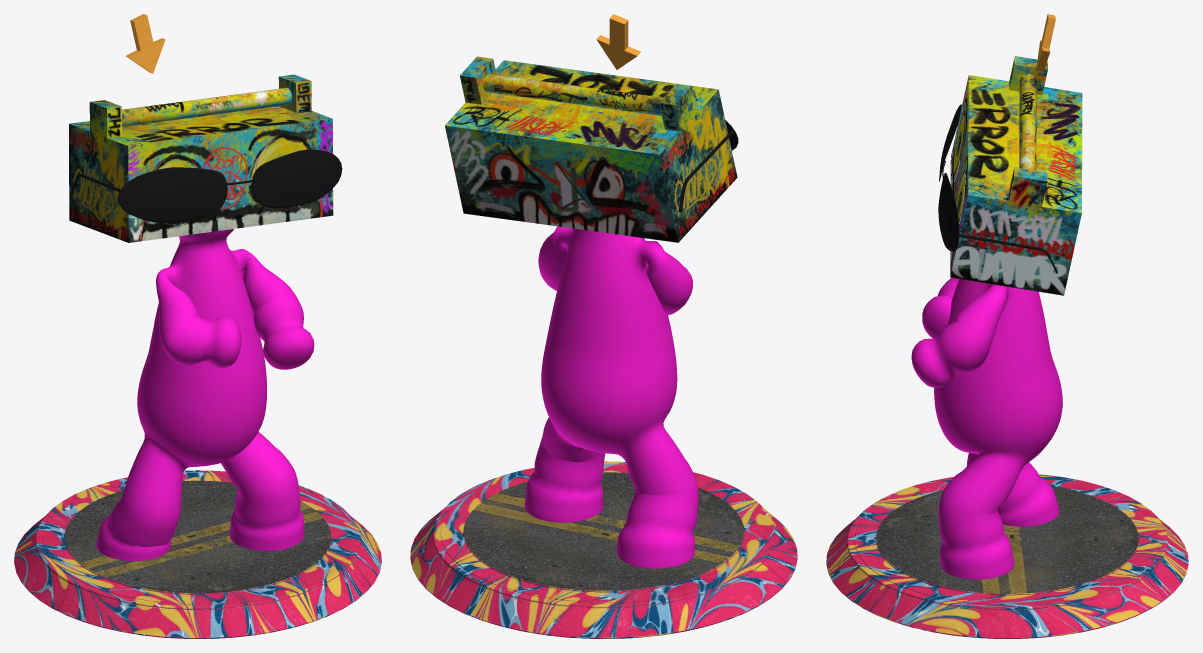
3 views of the same model, side by side, from view 1: azimuth 30°, elevation 25°; view 2: azimuth 150°, elevation 25°; view 3: azimuth 270°, elevation 25° (orthographic). The views are drawn at different scales.
Parts seen in each view (by area): view 1: BBody; view 2: BBody; view 3: BBody.
Boxes of the visible parts, <box> form: BBody: <box>14,14,381,638</box>; BBody: <box>410,14,797,638</box>; BBody: <box>826,14,1188,638</box>.
Bounding box in the file's own units: 1.45 × 2.34 × 1.45.
Materials: 6 (4 with a texture image).
